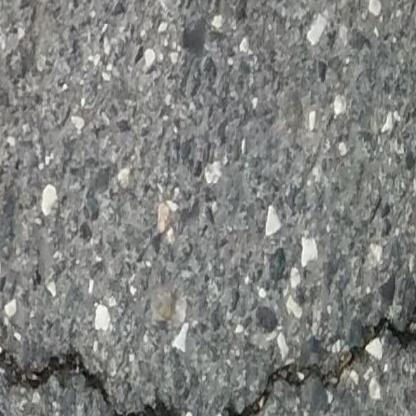Cracks: (203, 263, 416, 416), (0, 329, 199, 416)
